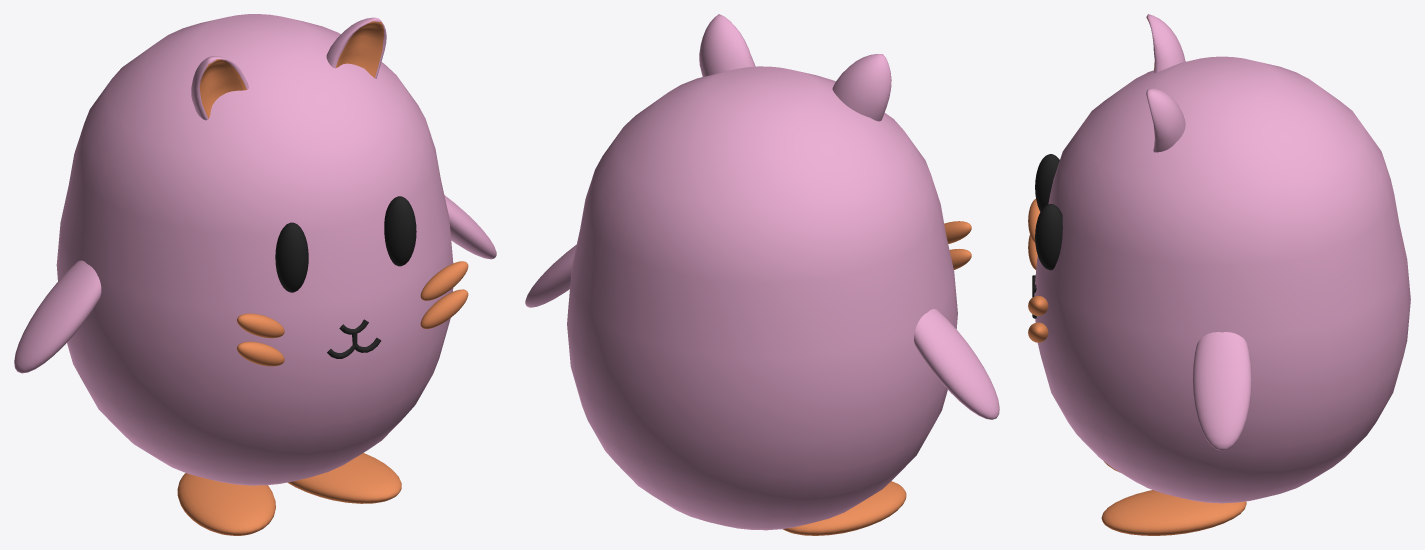
Rendered from Character.fbx.
3 renders of one model, left to right at view 1: azimuth 30°, elevation 25°; view 2: azimuth 150°, elevation 25°; view 3: azimuth 270°, elevation 25°, orthographic. The views are drawn at different scales.
Visible parts, largest first — view 1: Character; view 2: Character; view 3: Character.
Boxes of the visible parts, box(x1,y1,x2,y2) form: Character: box(14, 14, 496, 535); Character: box(525, 14, 999, 535); Character: box(1028, 14, 1410, 535).
Bounding box in the file's own units: 277 × 261 × 203.
